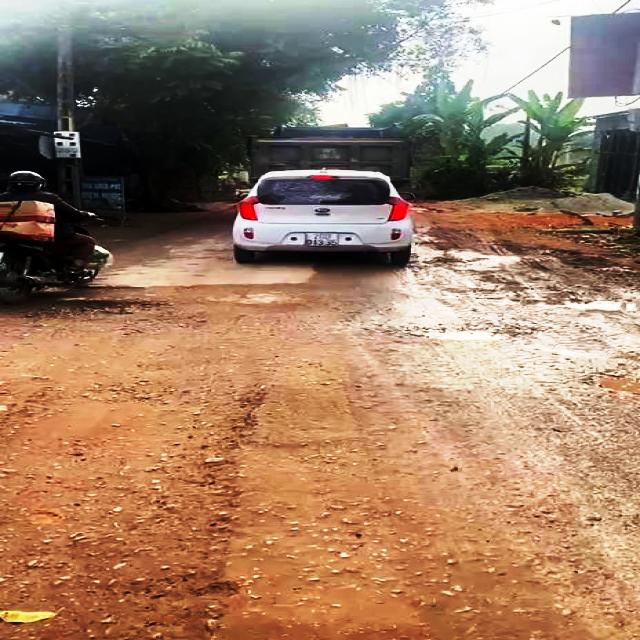pothole: (0, 387, 273, 640), (23, 295, 167, 325), (411, 318, 520, 344), (580, 369, 640, 402)
